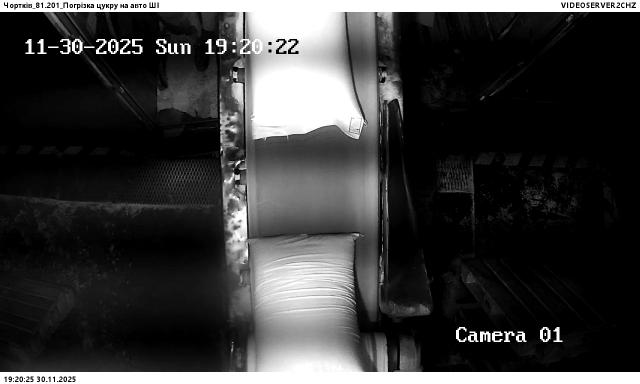bag: (246, 233, 372, 372), (246, 13, 365, 140)
